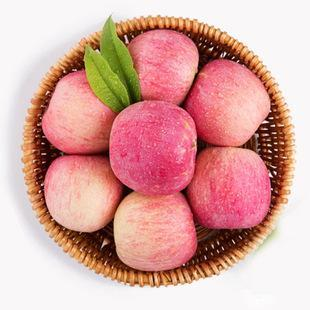apple: (110, 105, 199, 192), (186, 145, 270, 229), (188, 59, 272, 143), (112, 188, 197, 270), (42, 150, 124, 234), (41, 69, 117, 156), (125, 29, 199, 105)
